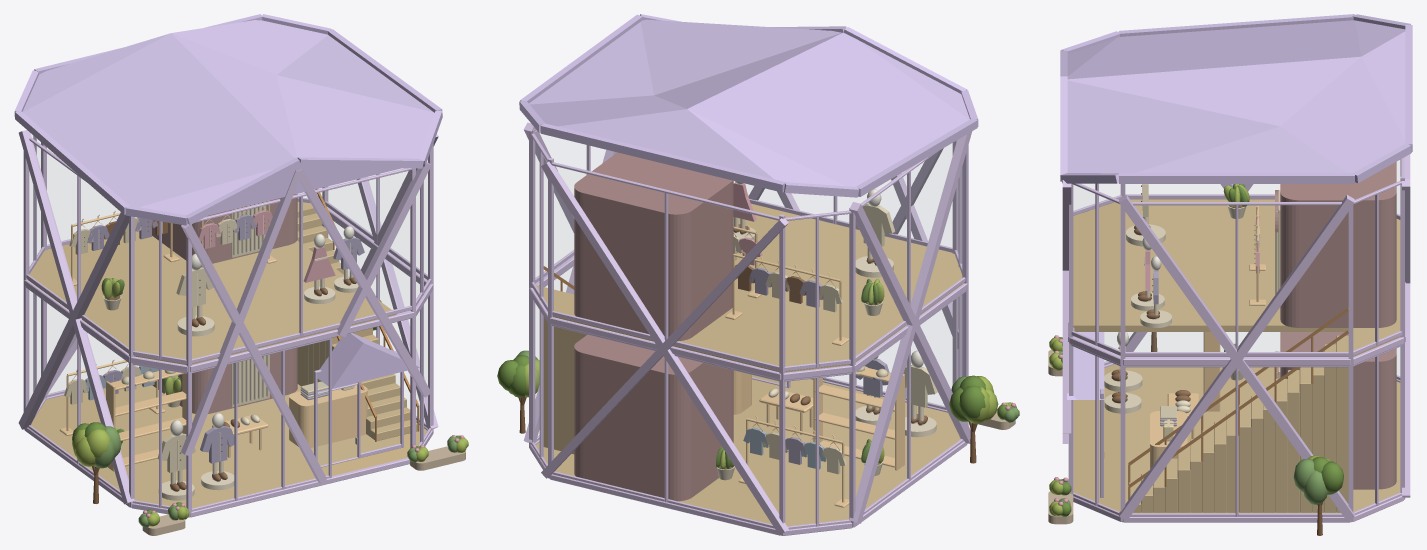
3 views of the same model, side by side, from view 1: azimuth 30°, elevation 25°; view 2: azimuth 150°, elevation 25°; view 3: azimuth 270°, elevation 25° (orthographic). The views are drawn at different scales.
Visible parts, largest first — view 1: R 紫色折面顶, S 二层楼板, S 首层楼面, A 上层折面玻璃, A 正面菱形斜肋, A 侧面斜肋, A 转角柱, R 折面檐边, I 成衣, A 首层折面玻璃, A 粉色试衣盒, S 梯级 (+18 smaller); view 2: R 紫色折面顶, A 粉色试衣盒, S 二层楼板, S 首层楼面, A 上层折面玻璃, A 转角柱, A 侧面斜肋, R 折面檐边, A 背面斜肋, I 成衣, A 首层折面玻璃, A 紫色层间带 (+11 smaller); view 3: R 紫色折面顶, S 二层楼板, A 粉色试衣盒, S 梯级, S 首层楼面, A 侧面斜肋, R 折面檐边, A 转角柱, A 上层折面玻璃, A 首层折面玻璃, A 紫色层间带, I 模特台座 (+14 smaller).
Part boxes in pixels (box(x1,y1,x2,y2)): R 紫色折面顶: box(22, 20, 434, 215); S 二层楼板: box(27, 201, 396, 364); S 首层楼面: box(31, 384, 427, 517); A 上层折面玻璃: box(26, 135, 431, 363); A 正面菱形斜肋: box(181, 162, 431, 483); A 侧面斜肋: box(18, 130, 438, 504); A 转角柱: box(23, 142, 433, 516); R 折面檐边: box(14, 14, 442, 225); I 成衣: box(64, 210, 364, 472); A 首层折面玻璃: box(26, 219, 431, 508); A 粉色试衣盒: box(152, 194, 297, 413); S 梯级: box(297, 213, 417, 440); R 紫色折面顶: box(529, 19, 969, 186); A 粉色试衣盒: box(574, 152, 733, 501); S 二层楼板: box(536, 203, 964, 372); S 首层楼面: box(536, 375, 960, 535); A 上层折面玻璃: box(530, 130, 965, 371); A 转角柱: box(529, 129, 968, 535); A 侧面斜肋: box(523, 122, 972, 523); R 折面檐边: box(519, 14, 978, 197); A 背面斜肋: box(541, 161, 788, 535); I 成衣: box(733, 182, 937, 474); A 首层折面玻璃: box(531, 265, 965, 529); A 紫色层间带: box(529, 255, 967, 380); R 紫色折面顶: box(1067, 20, 1405, 173); S 二层楼板: box(1073, 199, 1400, 356); A 粉色试衣盒: box(1280, 162, 1396, 489); S 梯级: box(1129, 335, 1348, 512); S 首层楼面: box(1073, 364, 1400, 522); A 侧面斜肋: box(1119, 36, 1354, 521); R 折面檐边: box(1060, 14, 1412, 183); A 转角柱: box(1069, 159, 1404, 521); A 上层折面玻璃: box(1071, 157, 1404, 356); A 首层折面玻璃: box(1070, 344, 1402, 516); A 紫色层间带: box(1068, 282, 1405, 365); I 模特台座: box(1104, 224, 1171, 413).
Size of the model in its own units: 23.08 by 20.6 by 17.58.
